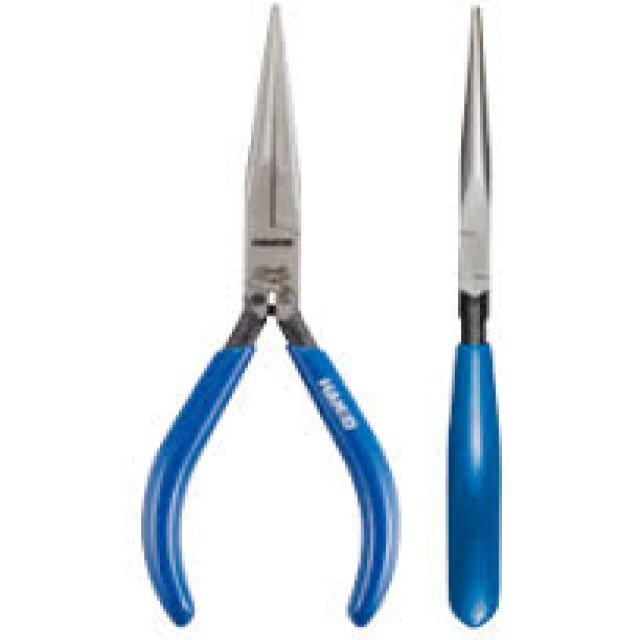pliers: (132, 0, 404, 628), (415, 2, 527, 629)
